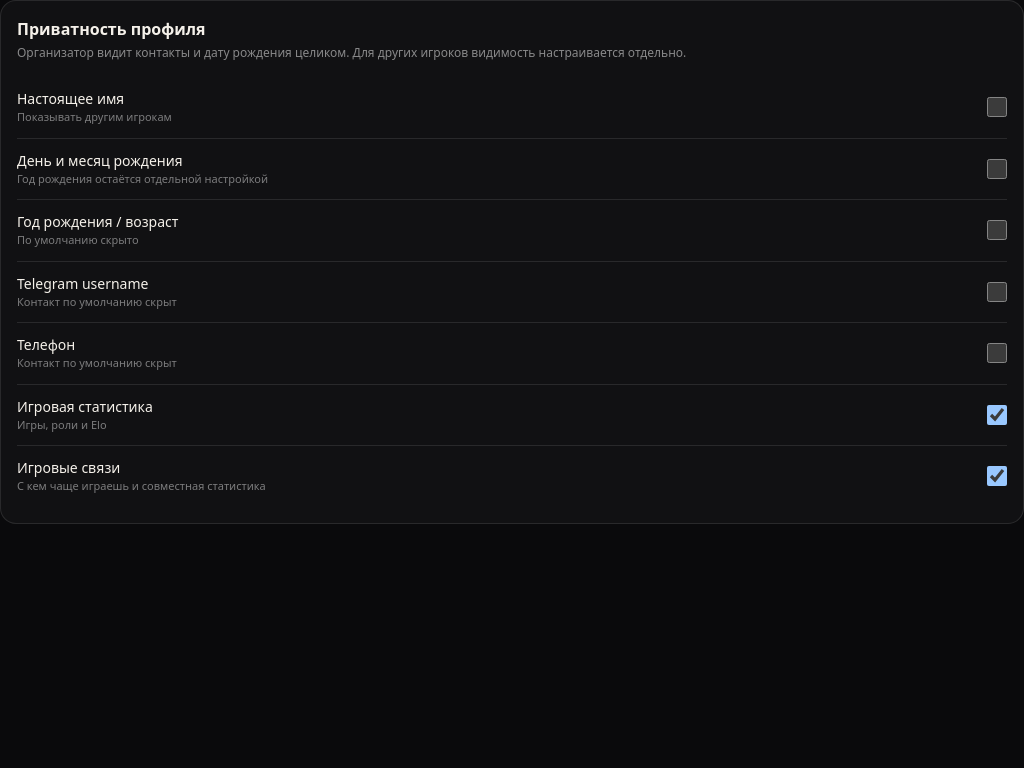
it: PlayerProfilePrivacySettings › puts the switch back when saving fails
What coordinates should you click on to do the following:
click the checkbox labelled "Телефон Контакт по умолчанию скрыт"
I would click on:
 (997, 353)
Its box is x1=987 y1=343 x2=1007 y2=363.
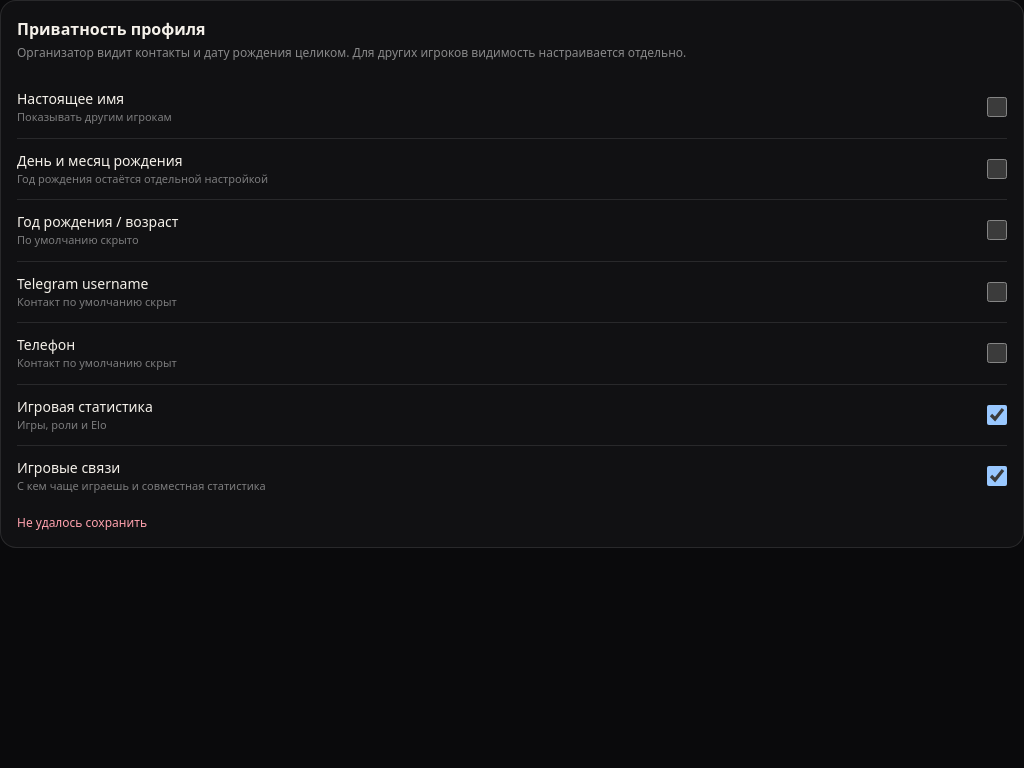
Check: the text "Не удалось сохранить" is shown, box x1=17 y1=514 x2=147 y2=530
